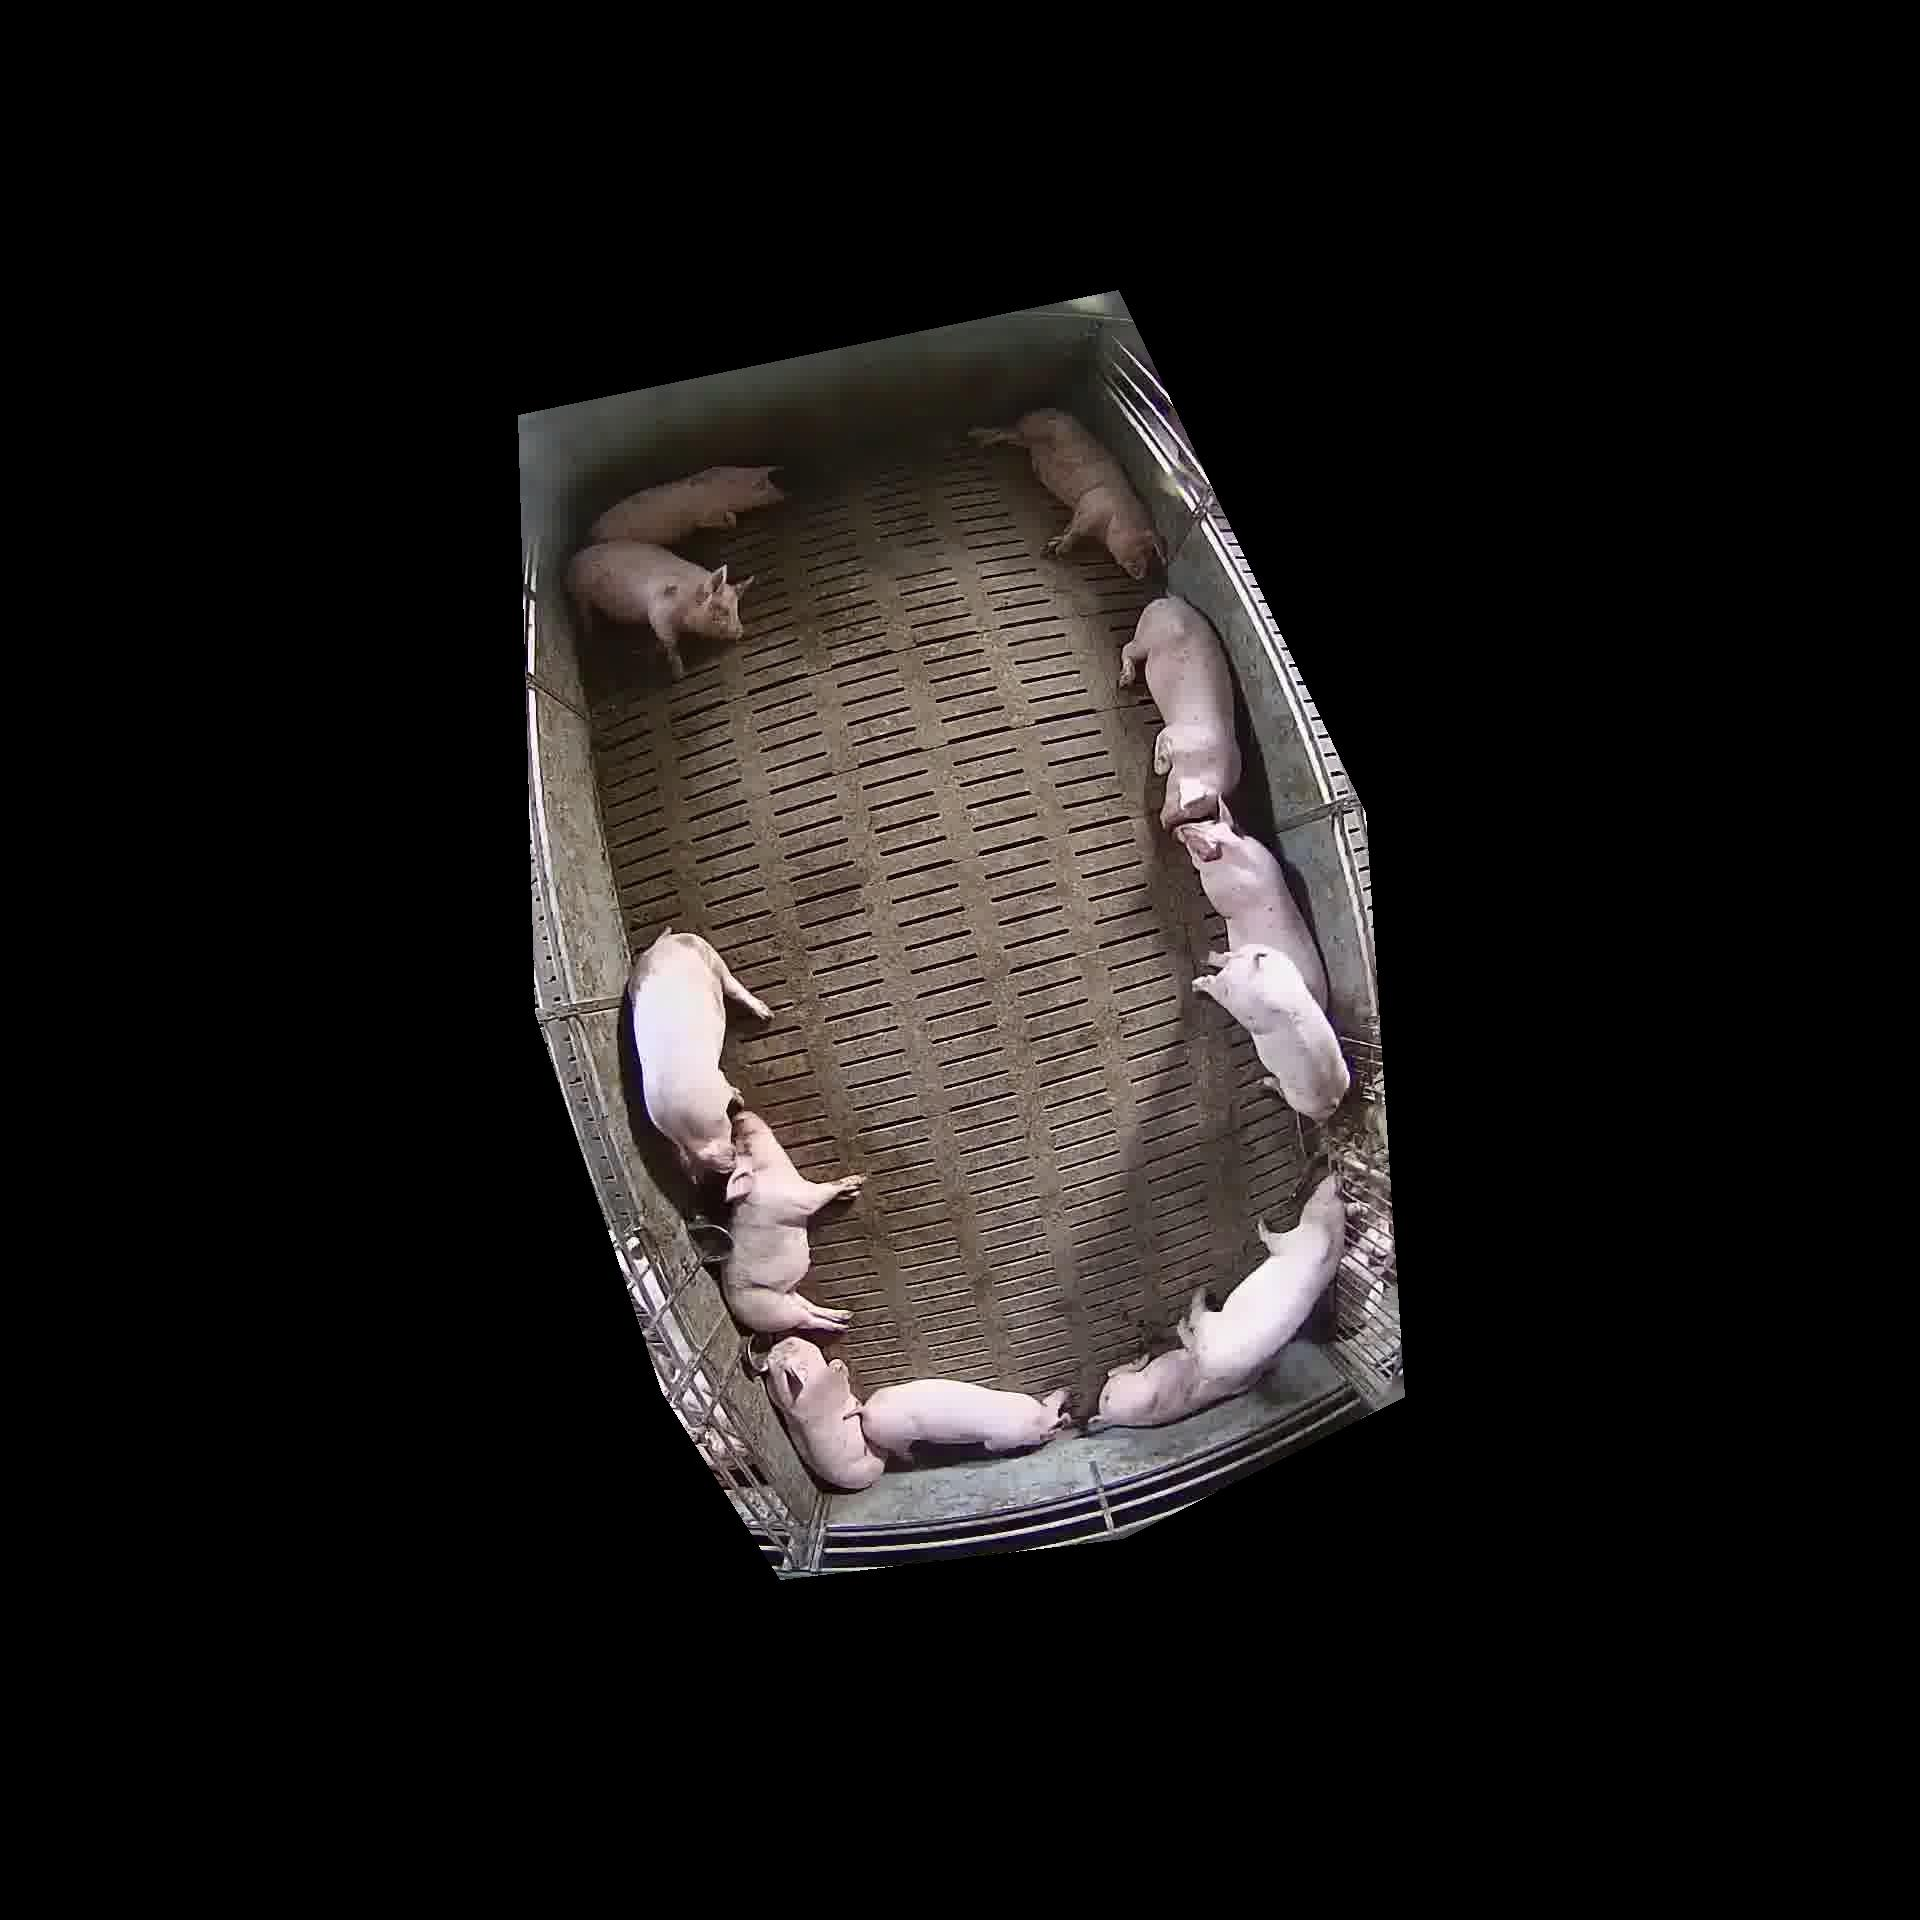pig: (628, 932, 772, 1180), (1176, 1173, 1342, 1377), (971, 408, 1160, 578), (723, 1109, 863, 1333), (1175, 809, 1327, 1007), (1122, 596, 1240, 828), (1194, 944, 1349, 1118), (566, 540, 751, 679), (765, 1336, 883, 1489), (862, 1378, 1067, 1459), (591, 466, 782, 545), (1088, 1349, 1252, 1424)
